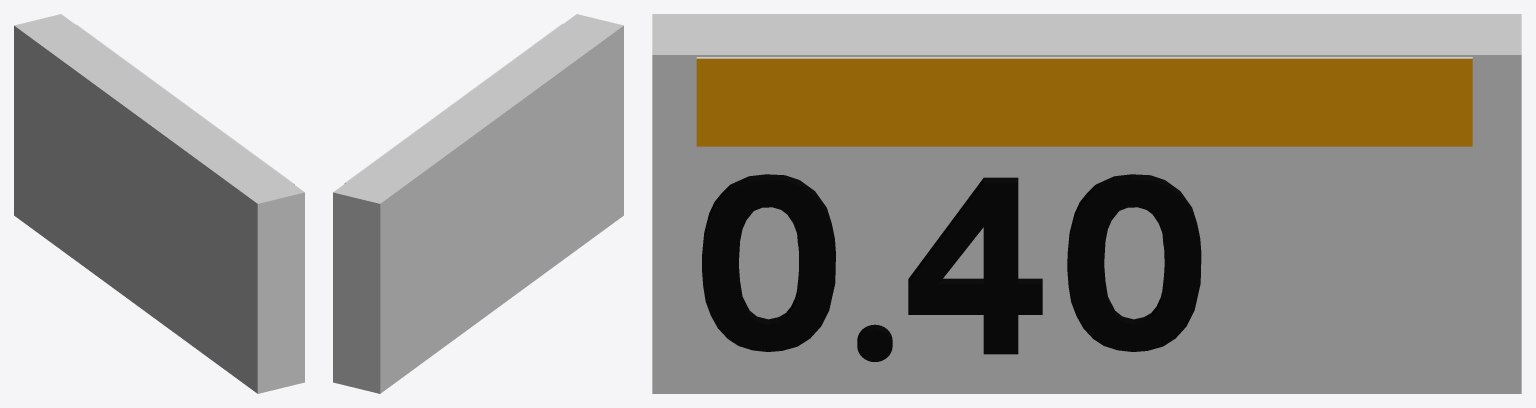
File: 0 40 room.fbx
3 views of the same model, side by side, from view 1: azimuth 30°, elevation 25°; view 2: azimuth 150°, elevation 25°; view 3: azimuth 270°, elevation 25° (orthographic). The views are drawn at different scales.
Parts seen in each view (by area): view 1: Cube.001, Cube; view 2: Cube.001, Cube; view 3: Cube.001, Cube, 0, 4, Circle.
Boxes of the visible parts, <box> form: Cube.001: <box>14,14,304,393</box>; Cube: <box>76,24,294,184</box>; Cube.001: <box>333,14,623,393</box>; Cube: <box>344,23,562,183</box>; Cube.001: <box>652,14,1521,393</box>; Cube: <box>696,57,1472,146</box>; 0: <box>702,174,1201,351</box>; 4: <box>908,177,1042,354</box>; Circle: <box>857,324,892,361</box>.
Bounding box in the file's own units: 227 × 771 × 1792.
